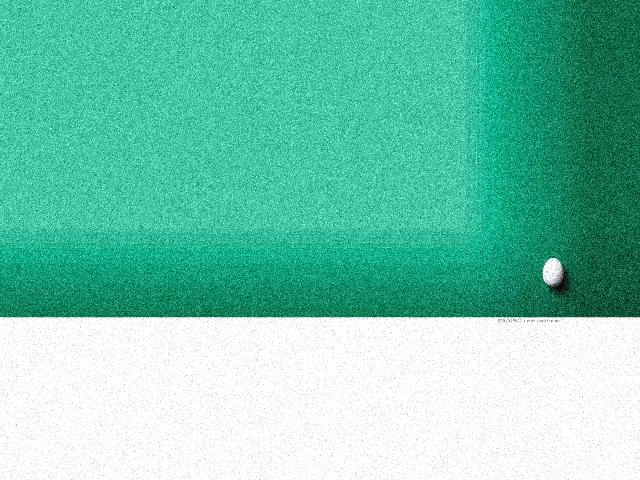egg: (541, 258, 562, 287)
